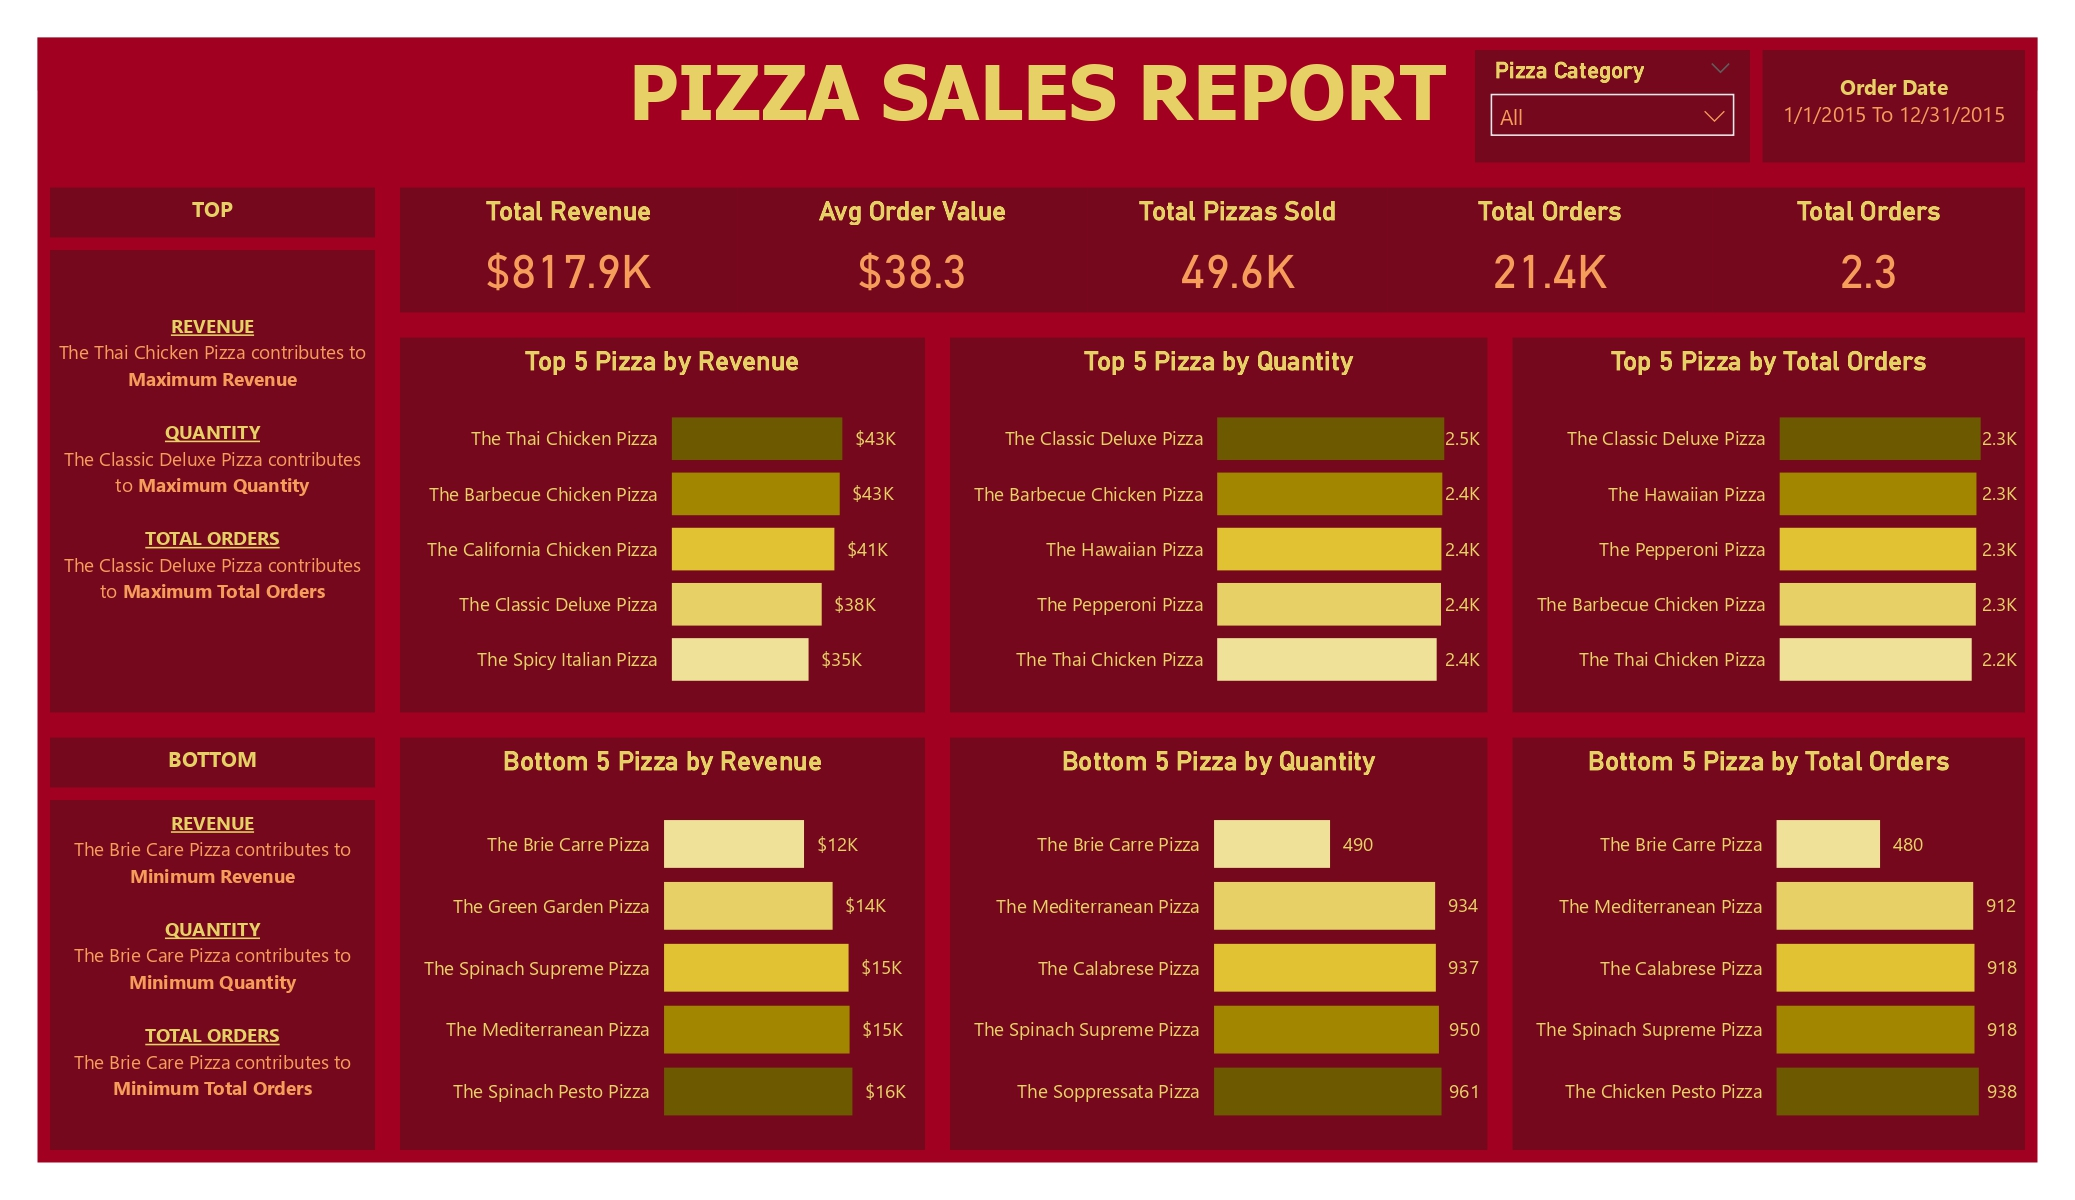

Layout of this report page (visuals, bound fields, positions):
{"tool":"powerbi","page":{"name":"Page 2","canvas":[1280,720],"ordinal":1},"visuals":[{"type":"textbox","box":[352,0,576,80],"z":0},{"type":"card","title":"Avg Order Value","fields":{"Values":["Total_Revenue.avg_order_value"]},"box":[448,96,224,80],"z":1000},{"type":"card","title":"Total Pizzas Sold","fields":{"Values":["Sum(Data Model - Pizza Sales.quantity)"]},"box":[672,96,192,80],"z":2000},{"type":"card","title":"Total Orders","fields":{"Values":["Total_Revenue.total_order"]},"box":[864,96,208,80],"z":3000},{"type":"card","title":"Total Orders","fields":{"Values":["Total_Revenue.avg_pizzas_order"]},"box":[1072,96,200,80],"z":4000},{"type":"card","title":"Total Revenue","fields":{"Values":["Sum(Data Model - Pizza Sales.total_price)"]},"box":[232,96,216,80],"z":5000},{"type":"slicer","fields":{"Values":["Data Model - Pizza Sales.pizza_category"]},"box":[920,8,176,72],"z":6000},{"type":"textbox","box":[1104,8,168,72],"z":7000},{"type":"textbox","box":[8,96,208,32],"z":8000},{"type":"textbox","box":[8,136,208,296],"z":9000},{"type":"textbox","box":[8,448,208,32],"z":10000},{"type":"textbox","box":[8,488,208,224],"z":11000},{"type":"barChart","title":"Top 5 Pizza by Revenue","fields":{"Y":["Data Model - Pizza Sales.Total Revenue"],"Category":["Data Model - Pizza Sales.pizza_name"]},"box":[232,192,336,240],"z":12000},{"type":"barChart","title":"Bottom 5 Pizza by Revenue","fields":{"Y":["Data Model - Pizza Sales.Total Revenue"],"Category":["Data Model - Pizza Sales.pizza_name"]},"box":[232,448,336,264],"z":13000},{"type":"barChart","title":"Top 5 Pizza by Quantity","fields":{"Category":["Data Model - Pizza Sales.pizza_name"],"Y":["Data Model - Pizza Sales.Total Pizza Sold"]},"box":[584,192,344,240],"z":14000},{"type":"barChart","title":"Bottom 5 Pizza by Quantity","fields":{"Category":["Data Model - Pizza Sales.pizza_name"],"Y":["Data Model - Pizza Sales.Total Pizza Sold"]},"box":[584,448,344,264],"z":15000},{"type":"barChart","title":"Top 5 Pizza by Total Orders","fields":{"Category":["Data Model - Pizza Sales.pizza_name"],"Y":["Data Model - Pizza Sales.Total Orders"]},"box":[944,192,328,240],"z":16000},{"type":"barChart","title":"Bottom 5 Pizza by Total Orders","fields":{"Category":["Data Model - Pizza Sales.pizza_name"],"Y":["Data Model - Pizza Sales.Total Orders"]},"box":[944,448,328,264],"z":17000}]}

Visuals, with their boxes in screenshot pixels (x1, y1, x2, y2):
textbox: rect(588, 38, 1488, 162)
"Avg Order Value" card: rect(738, 188, 1088, 312)
"Total Pizzas Sold" card: rect(1088, 188, 1388, 312)
"Total Orders" card: rect(1388, 188, 1712, 312)
"Total Orders" card: rect(1712, 188, 2025, 312)
"Total Revenue" card: rect(400, 188, 738, 312)
slicer - Data Model - Pizza Sales.pizza_category: rect(1475, 50, 1750, 162)
textbox: rect(1762, 50, 2025, 162)
textbox: rect(50, 188, 375, 238)
textbox: rect(50, 250, 375, 712)
textbox: rect(50, 738, 375, 788)
textbox: rect(50, 800, 375, 1150)
"Top 5 Pizza by Revenue" barChart: rect(400, 338, 925, 712)
"Bottom 5 Pizza by Revenue" barChart: rect(400, 738, 925, 1150)
"Top 5 Pizza by Quantity" barChart: rect(950, 338, 1488, 712)
"Bottom 5 Pizza by Quantity" barChart: rect(950, 738, 1488, 1150)
"Top 5 Pizza by Total Orders" barChart: rect(1512, 338, 2025, 712)
"Bottom 5 Pizza by Total Orders" barChart: rect(1512, 738, 2025, 1150)
